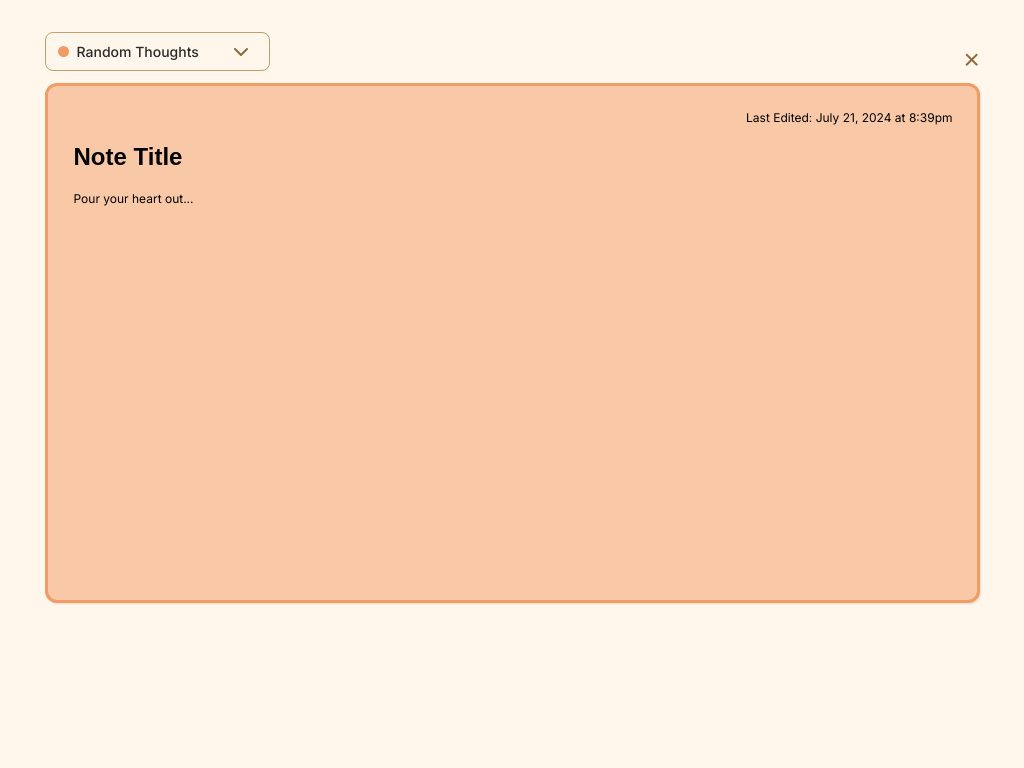
Test: /notes/[id] page › opens dropdown and selects category
Click the button "Random Thoughts" at coordinates (157, 52), box [44, 32, 270, 71]
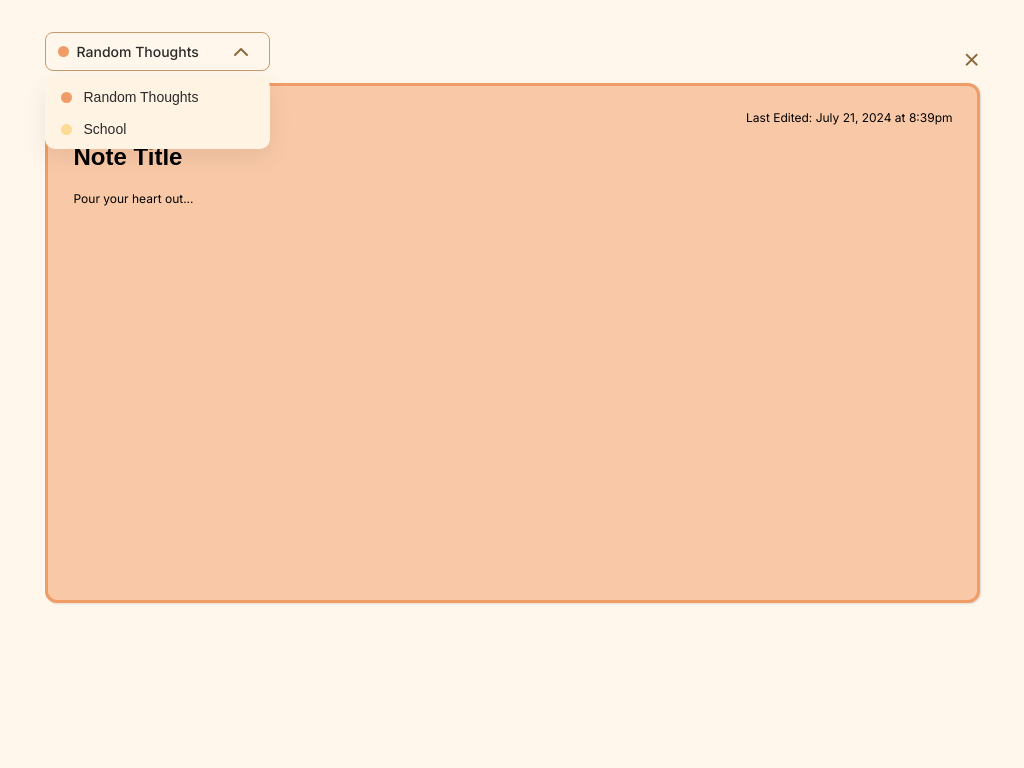
Now the text "School" is shown, box [84, 121, 126, 137]
Click the button "School" at coordinates (157, 129), box [44, 113, 270, 145]
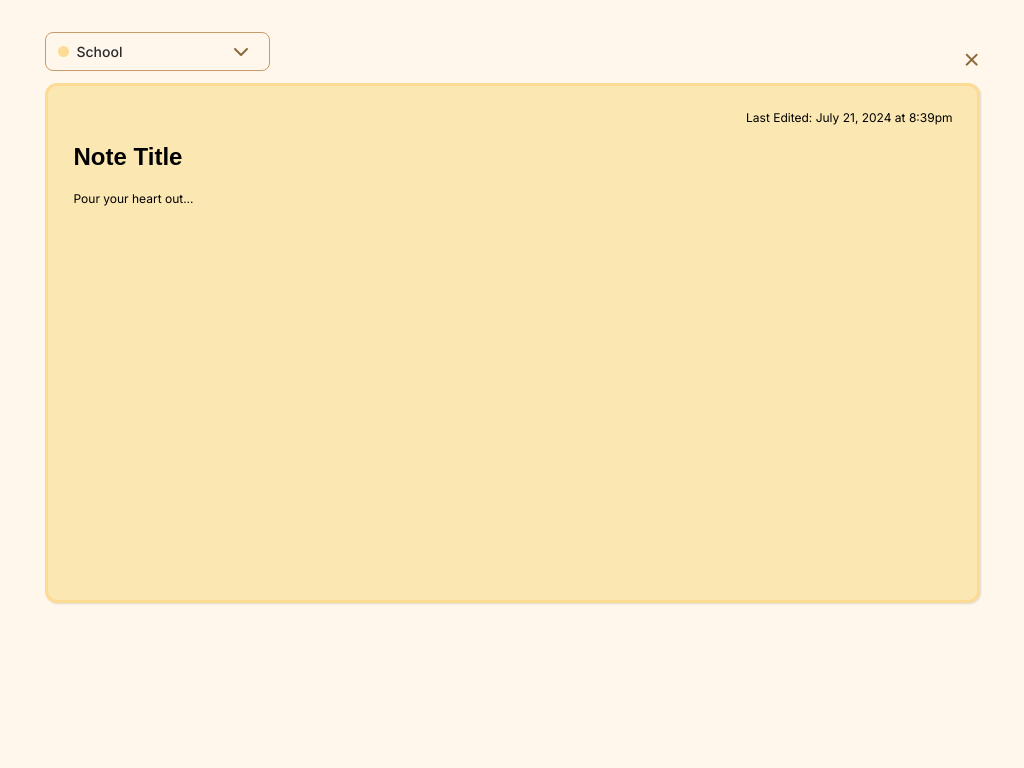
Now the text "School" is shown, box [76, 43, 122, 60]
